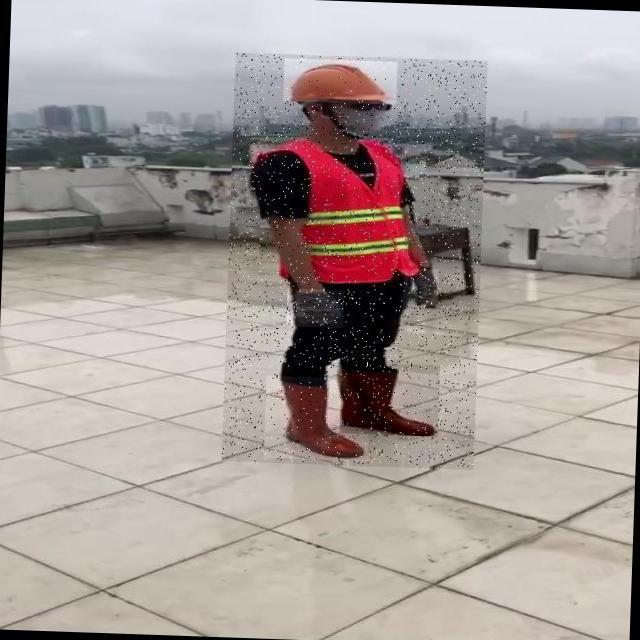Gloves: (286, 289, 344, 328), (403, 269, 439, 310)
Helmet: (283, 59, 397, 105)
Human: (221, 52, 487, 471)
Safety Boot: (263, 376, 370, 461), (340, 363, 440, 436)
Safety Vest: (257, 147, 420, 286)
